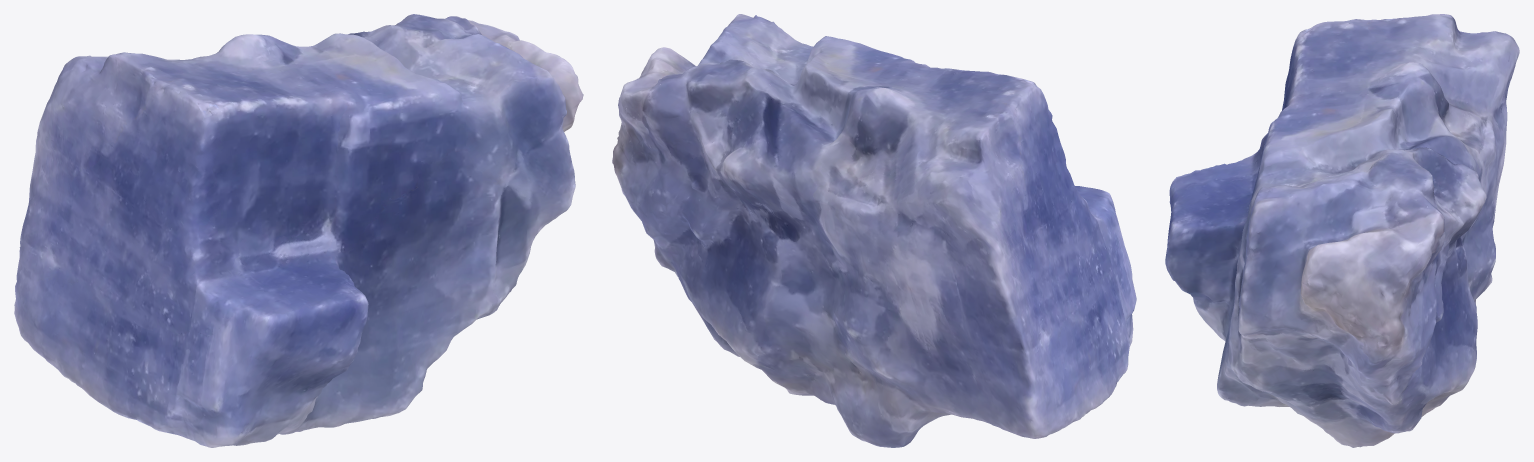
File: calcite.glb
3 views of the same model, side by side, from view 1: azimuth 30°, elevation 25°; view 2: azimuth 150°, elevation 25°; view 3: azimuth 270°, elevation 25° (orthographic). The views are drawn at different scales.
Visible parts, largest first — view 1: Object_2; view 2: Object_2; view 3: Object_2.
Part boxes in pixels (x1,y1,x2,y2): Object_2: (14, 14, 583, 447); Object_2: (612, 14, 1136, 447); Object_2: (1165, 14, 1519, 447).
Bounding box in the file's own units: 0.687 × 0.476 × 0.4519.
Materials: 1 (1 with a texture image).
